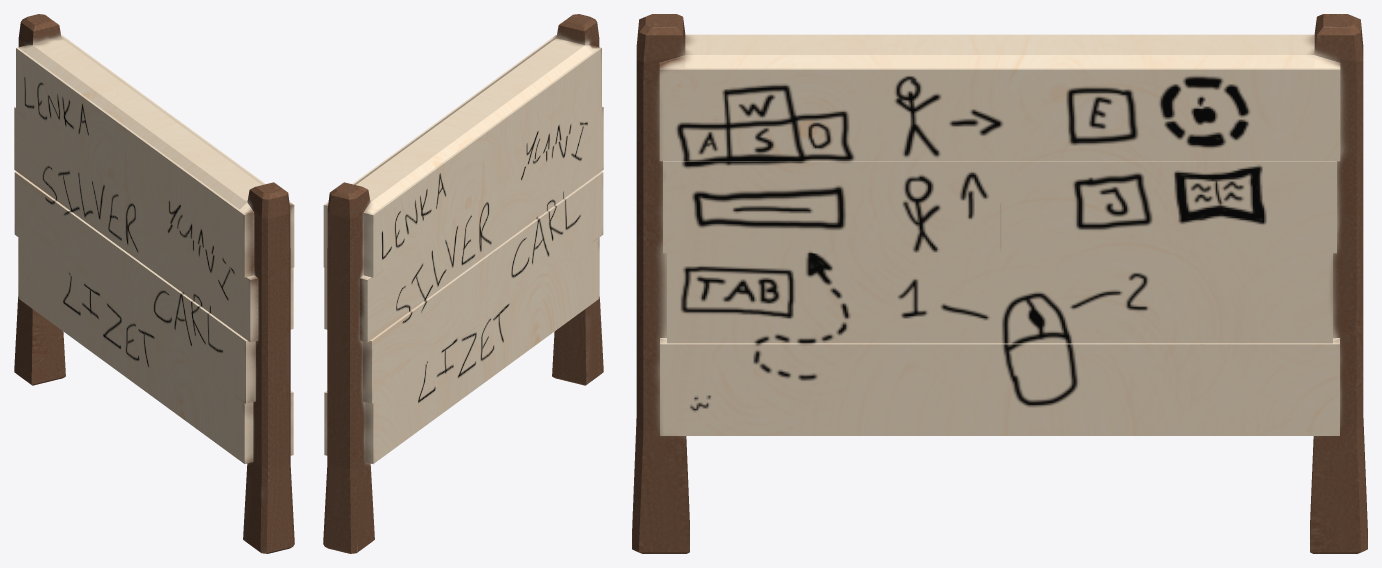
Rendered from board.glb.
3 renders of one model, left to right at view 1: azimuth 30°, elevation 25°; view 2: azimuth 150°, elevation 25°; view 3: azimuth 270°, elevation 25°, orthographic. The views are drawn at different scales.
Parts seen in each view (by area): view 1: Cube.002; view 2: Cube.002; view 3: Cube.002.
Boxes of the visible parts, x1,y1,x2,y2 form: Cube.002: (14, 14, 294, 553); Cube.002: (323, 14, 603, 553); Cube.002: (632, 14, 1367, 553).
Size of the model in its own units: 0.6684 by 4.72 by 6.02.
Materials: 1 (1 with a texture image).
